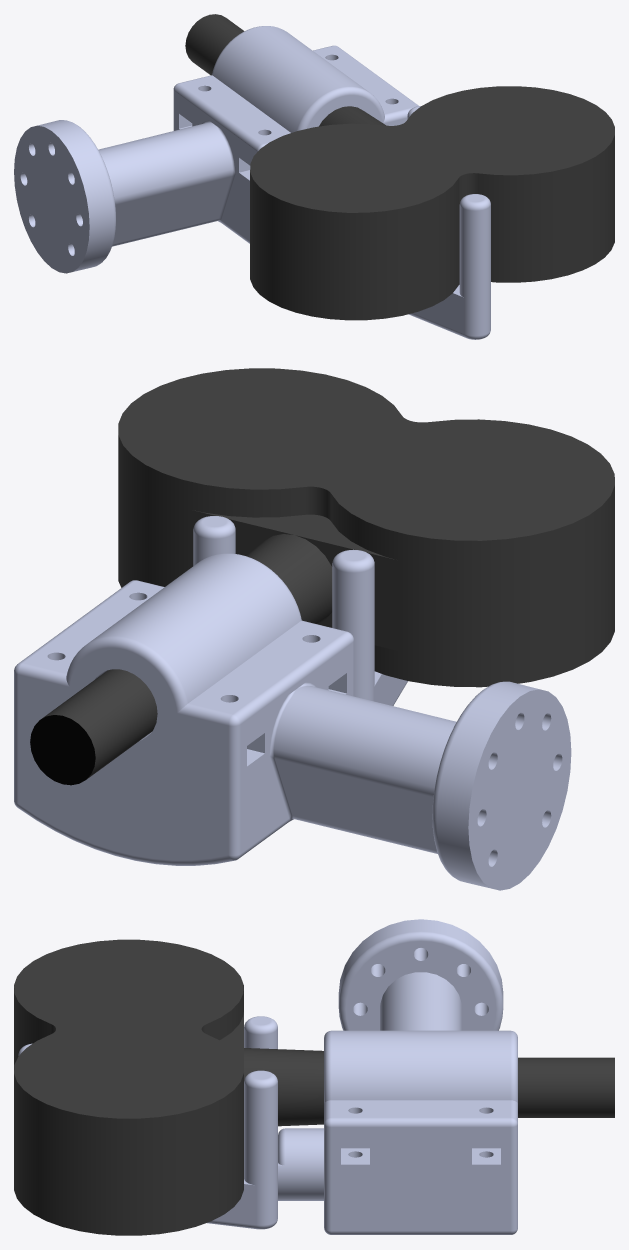
Rendered from tms.dae.
3 renders of one model, top to bottom at view 1: azimuth 30°, elevation 25°; view 2: azimuth 150°, elevation 25°; view 3: azimuth 270°, elevation 25°, orthographic. The views are drawn at different scales.
Visible parts, largest first — view 1: _ncl1_2, suporteFBXASC032TMSFBXASC032original, acomplamentoFBXASC032suporteFBXASC032TMS; view 2: _ncl1_2, suporteFBXASC032TMSFBXASC032original, acomplamentoFBXASC032suporteFBXASC032TMS, _ncl1_4; view 3: _ncl1_2, suporteFBXASC032TMSFBXASC032original, acomplamentoFBXASC032suporteFBXASC032TMS.
Boxes of the visible parts, bbox=[...] form: _ncl1_2: bbox=[185, 14, 614, 320]; suporteFBXASC032TMSFBXASC032original: bbox=[14, 95, 490, 339]; acomplamentoFBXASC032suporteFBXASC032TMS: bbox=[173, 26, 418, 154]; _ncl1_2: bbox=[40, 368, 614, 778]; suporteFBXASC032TMSFBXASC032original: bbox=[14, 516, 571, 890]; acomplamentoFBXASC032suporteFBXASC032TMS: bbox=[14, 553, 353, 731]; _ncl1_4: bbox=[30, 715, 95, 785]; _ncl1_2: bbox=[14, 939, 614, 1235]; suporteFBXASC032TMSFBXASC032original: bbox=[18, 919, 517, 1234]; acomplamentoFBXASC032suporteFBXASC032TMS: bbox=[324, 1030, 517, 1131].
Size of the model in its own units: 0.2153 by 0.0833 by 0.2479.
